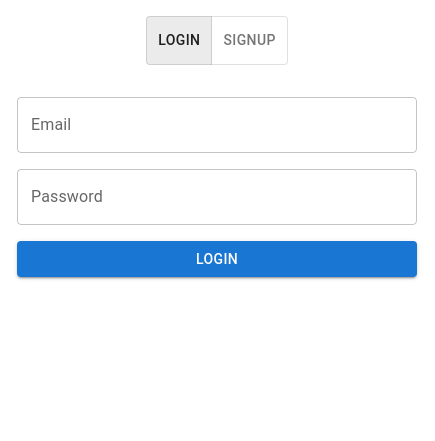
it: AuthPage › switches between login and signup modes
expect the button "Login" below "Password" is shown: met, box [17,240,417,277]
# Switch to signup
Click the button labelled "Signup".
click(250, 40)  # box [211,16,288,64]
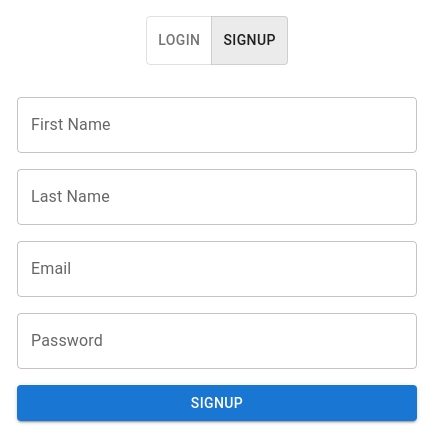
expect the button "Signup" below "Password" is shown: met, box [17,384,417,421]
